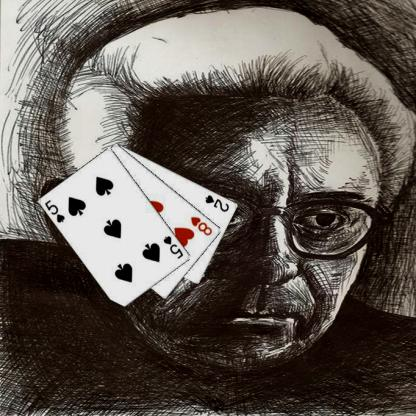2S: (202, 192, 230, 213)
5S: (161, 233, 185, 260), (42, 197, 66, 224)
8H: (188, 214, 214, 237)
